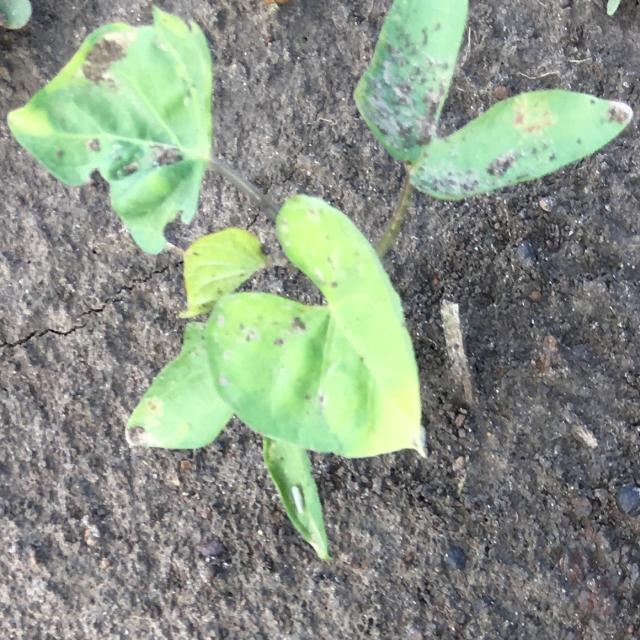MorningGlory: (6, 0, 632, 559)
